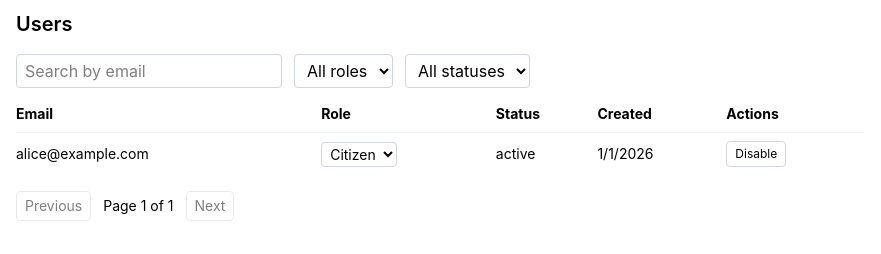
it: Admin Users page actions › displays the specific backend-provided reason for a self-targeted attempt
Check: the text "alice@example.com" is shown, box [16, 132, 321, 175]
Click the button "Disable" at (756, 154), box [726, 141, 786, 167]
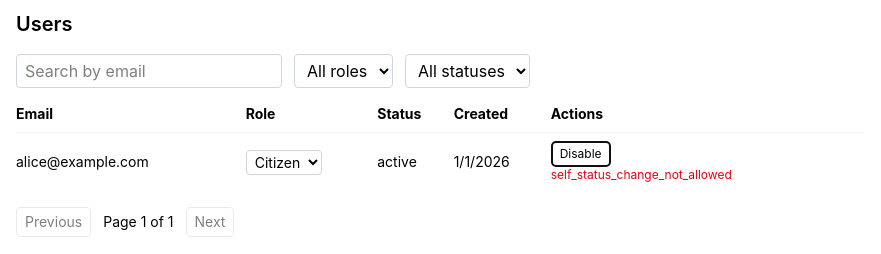
Check: the text "self_status_change_not_allowed" is shown, box [551, 167, 732, 182]
